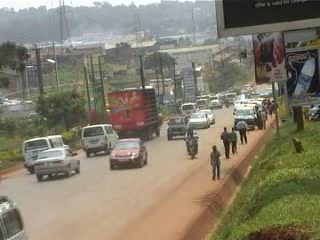Car: (32, 145, 84, 182), (105, 137, 151, 169), (163, 115, 194, 144), (184, 110, 211, 132), (200, 106, 217, 124)
Motorcycle: (181, 130, 201, 153), (185, 133, 200, 159), (224, 95, 230, 108)
